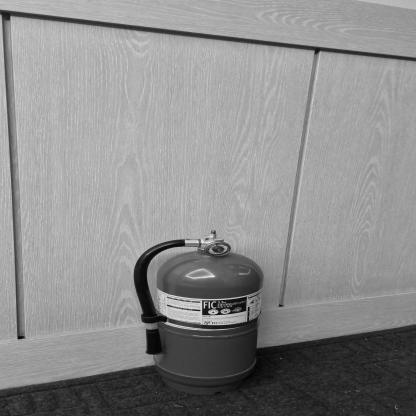FE: (131, 238, 263, 396)
